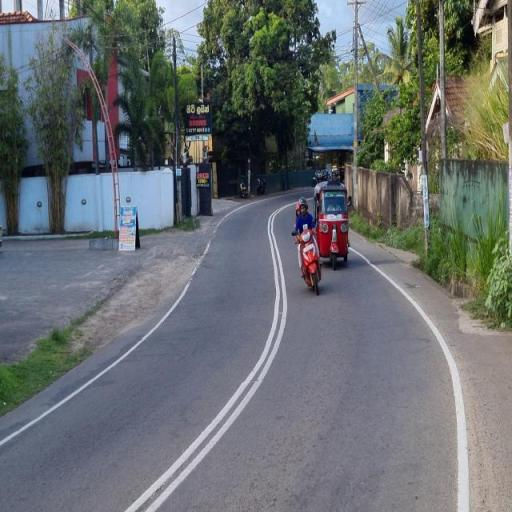double_white_line: (122, 198, 288, 512)
